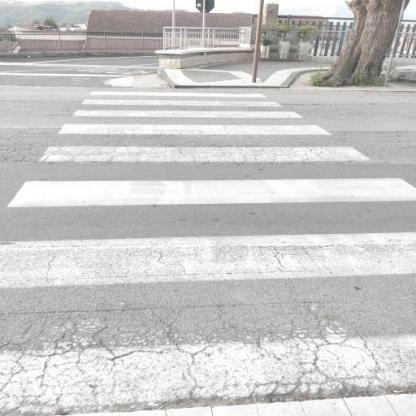crosswalk: (23, 119, 377, 170), (79, 86, 287, 112)
